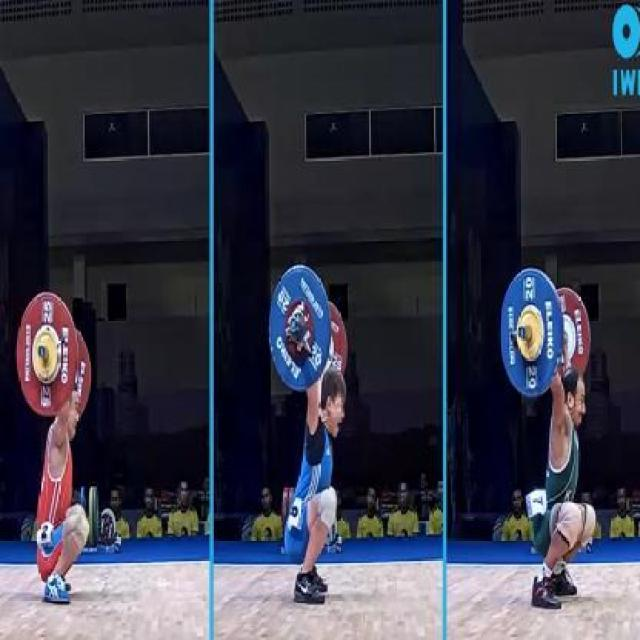barbell: (264, 261, 335, 394), (497, 265, 565, 398), (15, 287, 82, 416)
